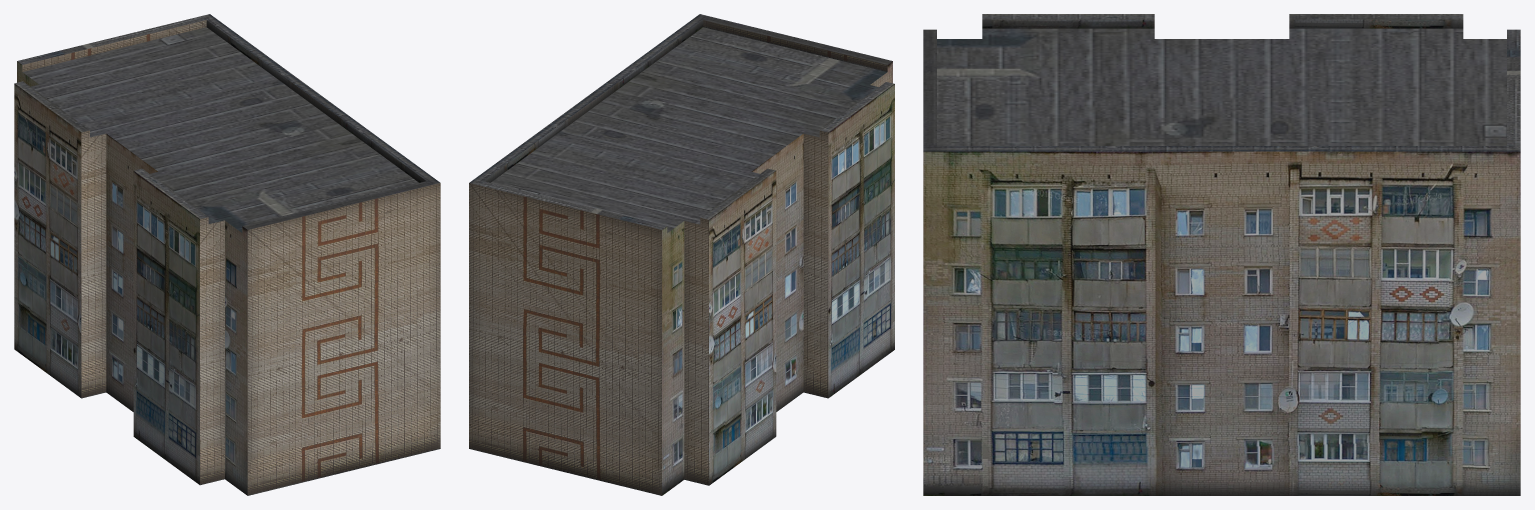
The model's file is r402_ishim_domik3.FBX.
3 renders of one model, left to right at view 1: azimuth 30°, elevation 25°; view 2: azimuth 150°, elevation 25°; view 3: azimuth 270°, elevation 25°, orthographic. The views are drawn at different scales.
Visible parts, largest first — view 1: r402_ishim_domik3; view 2: r402_ishim_domik3; view 3: r402_ishim_domik3.
Boxes of the visible parts, x1=… form: r402_ishim_domik3: x1=14, y1=14, x2=440, y2=495; r402_ishim_domik3: x1=469, y1=14, x2=894, y2=495; r402_ishim_domik3: x1=923, y1=14, x2=1520, y2=495.
Size of the model in its own units: 1200 by 2202 by 1400.
